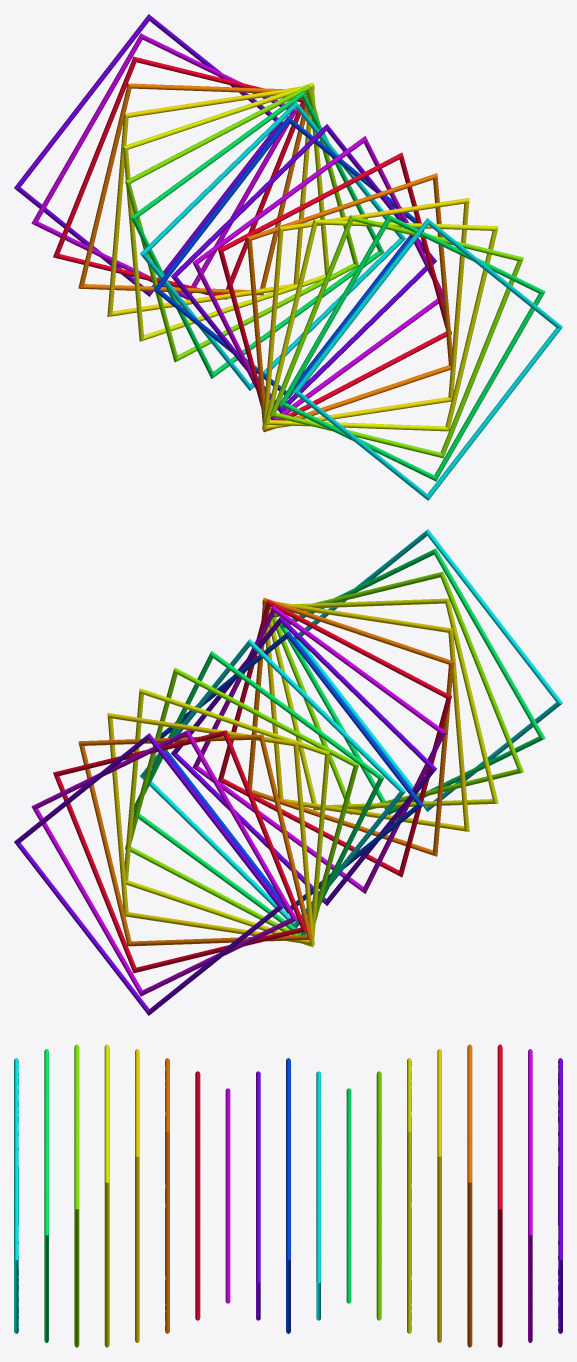
The model's file is NeonSquareCentre.fbx.
3 views of the same model, one above another, from view 1: azimuth 30°, elevation 25°; view 2: azimuth 150°, elevation 25°; view 3: azimuth 270°, elevation 25° (orthographic). The views are drawn at different scales.
Parts seen in each view (by area): view 1: 0-NeonSquare2 0-NeonSquare2 [44388]; view 2: 0-NeonSquare2 0-NeonSquare2 [44388]; view 3: 0-NeonSquare2 0-NeonSquare2 [44388].
Part boxes in pixels (box(x1,y1,x2,y2)): 0-NeonSquare2 0-NeonSquare2 [44388]: box(14, 14, 562, 500); 0-NeonSquare2 0-NeonSquare2 [44388]: box(14, 529, 562, 1015); 0-NeonSquare2 0-NeonSquare2 [44388]: box(14, 1044, 562, 1347).
Bounding box in the file's own units: 503 × 503 × 908.
